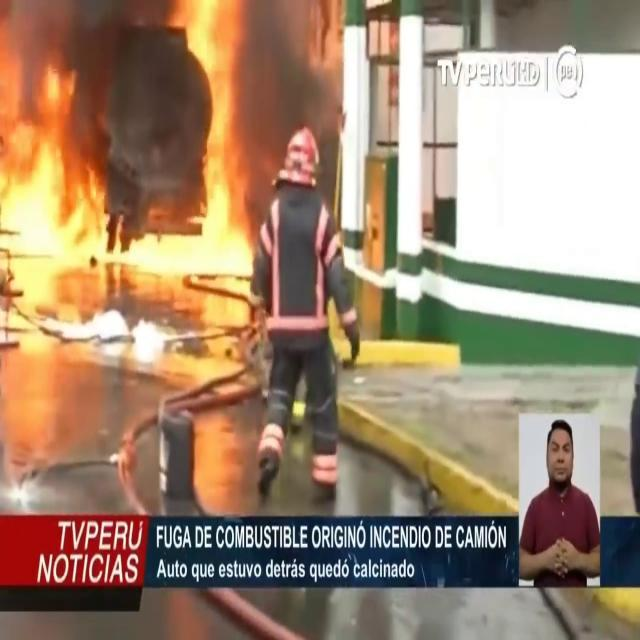Fire: (0, 1, 270, 374)
